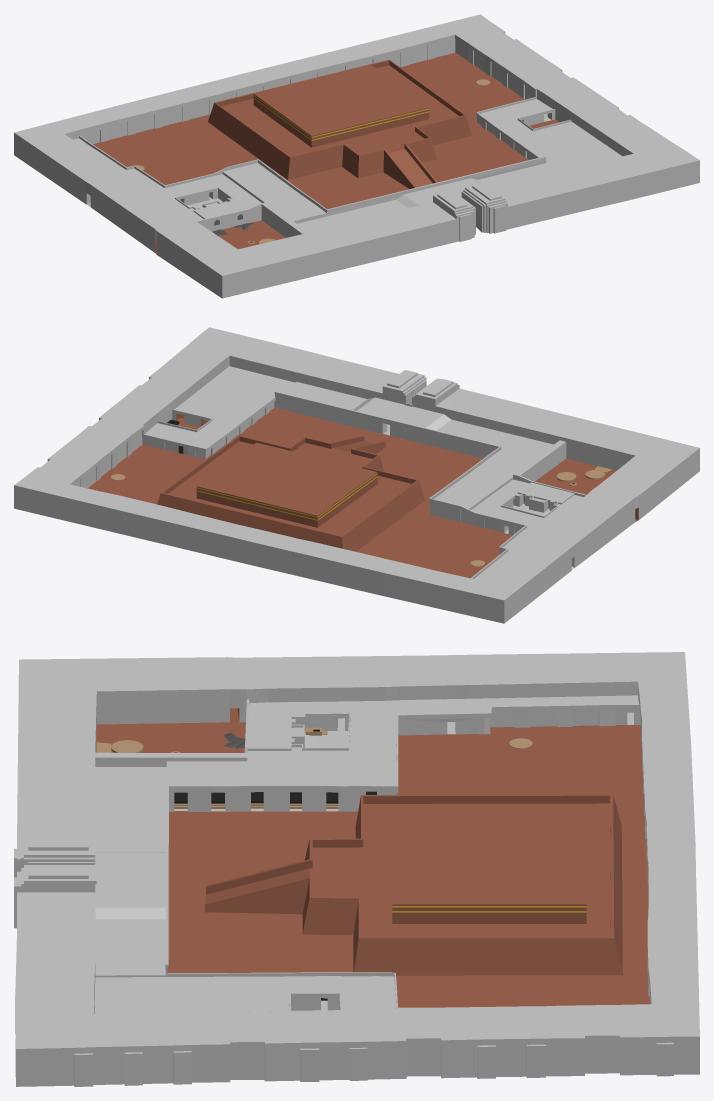
File: SM_Ur_ZigguratTerrace.glb
The picture shows the model from 3 angles, top to bottom: view 1: azimuth 30°, elevation 25°; view 2: azimuth 150°, elevation 25°; view 3: azimuth 270°, elevation 25°; orthographic projection. The views are drawn at different scales.
Visible parts, largest first — view 1: CourtyardAndWalls, CourtyardFloor, SM_TemplePlatform, SM_FirstDynastyTemple, SM_TenemosEntry; view 2: CourtyardAndWalls, CourtyardFloor, SM_TemplePlatform, SM_FirstDynastyTemple, SM_TenemosEntry; view 3: CourtyardAndWalls, CourtyardFloor, SM_TemplePlatform, SM_FirstDynastyTemple, SM_TenemosEntry.
Part boxes in pixels (<box>): CourtyardAndWalls: <box>14,14,699,298</box>; CourtyardFloor: <box>93,52,528,209</box>; SM_TemplePlatform: <box>208,59,471,189</box>; SM_FirstDynastyTemple: <box>253,65,429,147</box>; SM_TenemosEntry: <box>433,183,507,241</box>; CourtyardAndWalls: <box>14,327,699,623</box>; CourtyardFloor: <box>87,407,512,578</box>; SM_TemplePlatform: <box>157,435,424,551</box>; SM_FirstDynastyTemple: <box>196,442,377,527</box>; SM_TenemosEntry: <box>382,370,459,406</box>; CourtyardAndWalls: <box>15,652,699,1086</box>; CourtyardFloor: <box>167,725,649,1007</box>; SM_TemplePlatform: <box>205,794,622,975</box>; SM_FirstDynastyTemple: <box>392,808,586,923</box>; SM_TenemosEntry: <box>14,837,95,928</box>.
Bounding box in the file's own units: 132 × 9.14 × 96.37.
